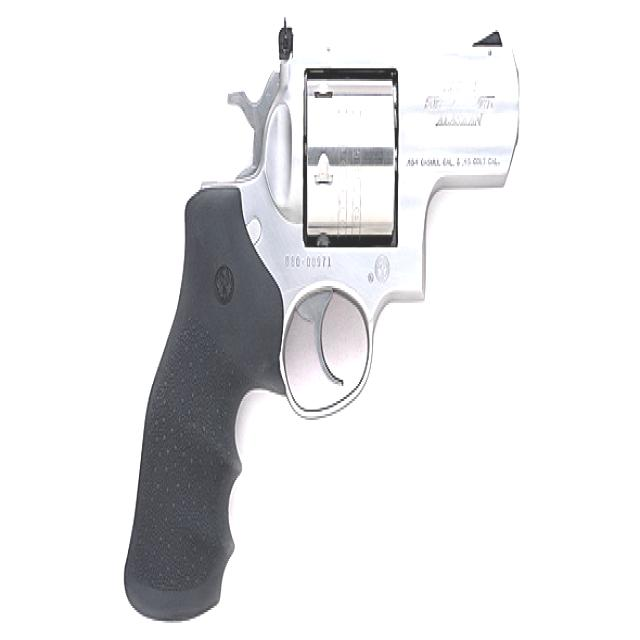pistol: (112, 22, 520, 628)
